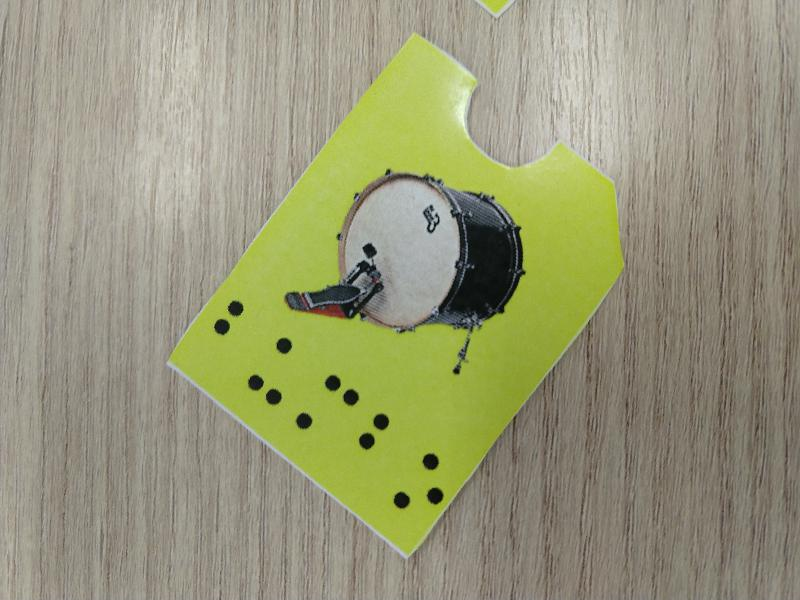bumbo: (161, 27, 630, 567)
